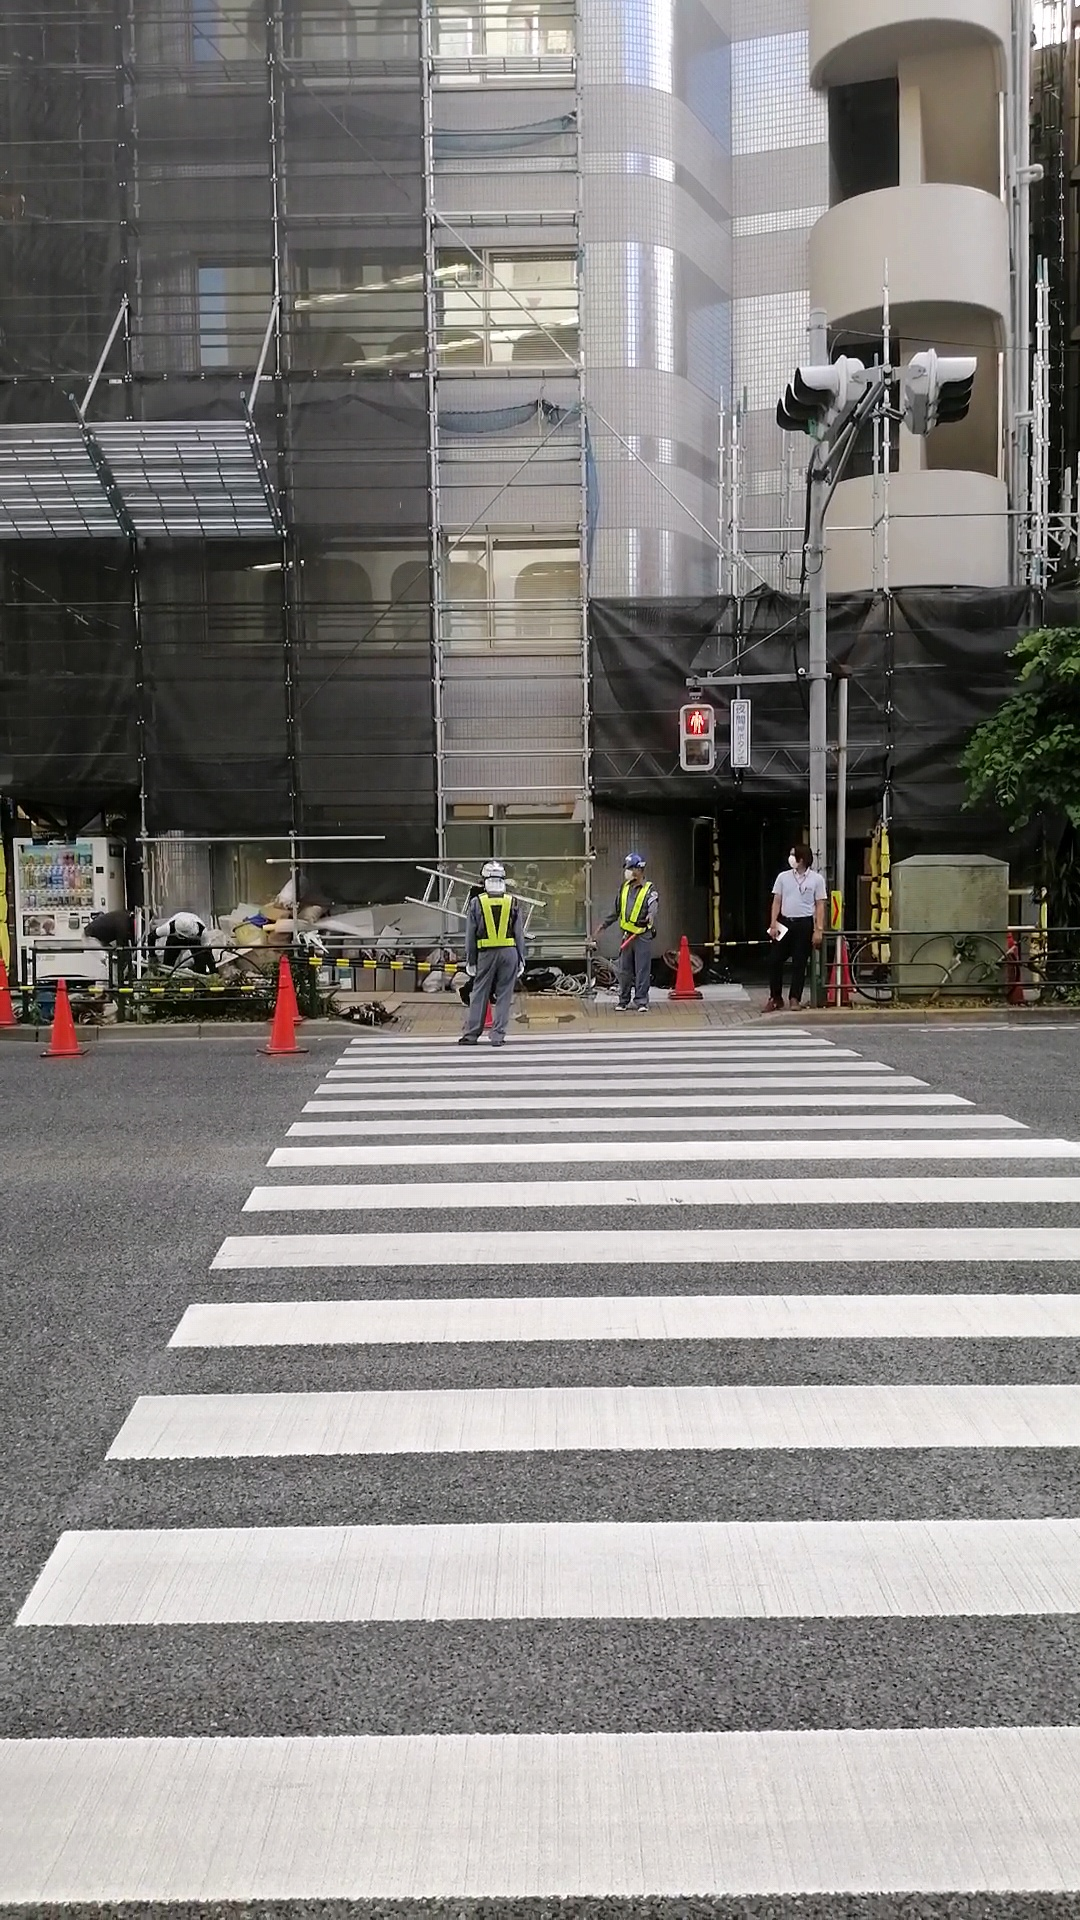red: (676, 704, 716, 771)
